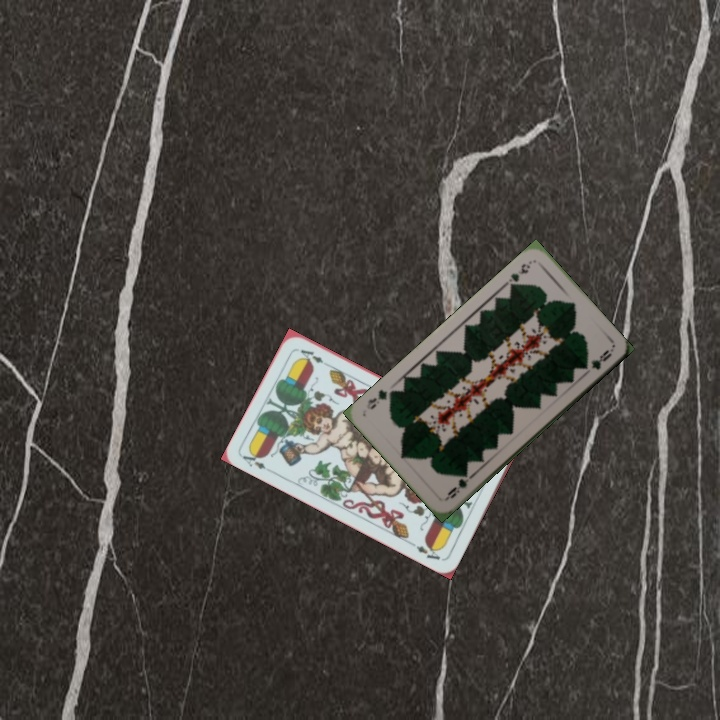EA: (238, 448, 276, 476)
G9: (441, 468, 475, 503), (501, 257, 535, 292)
